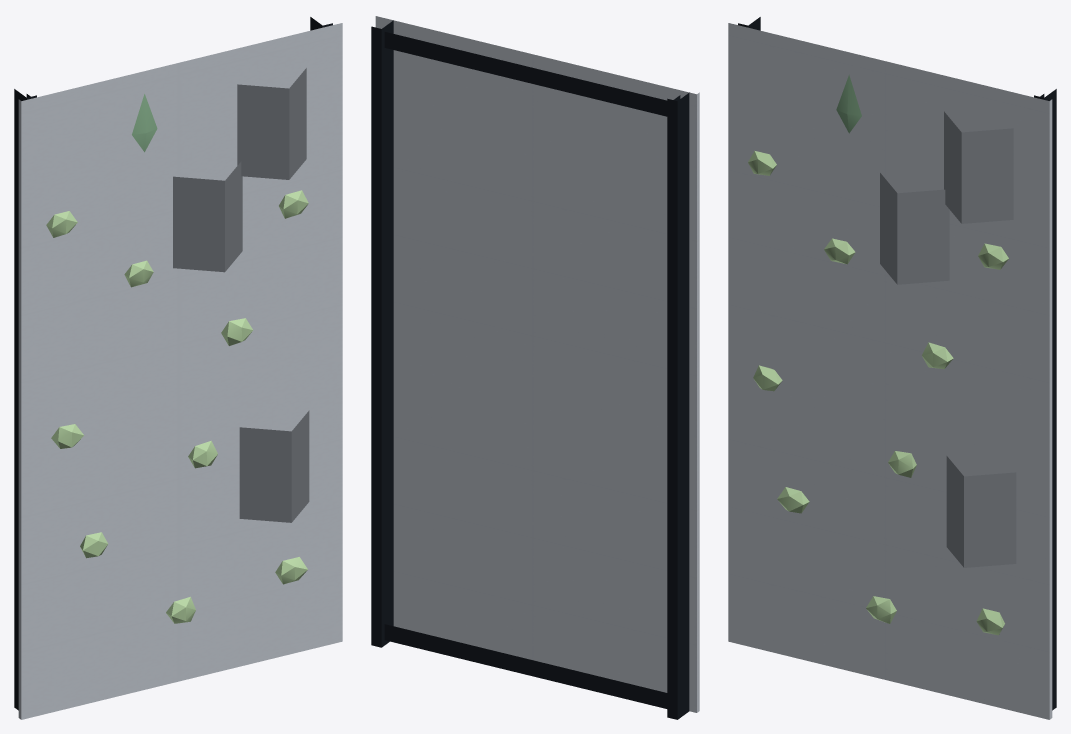
3 renders of one model, left to right at view 1: azimuth 30°, elevation 25°; view 2: azimuth 150°, elevation 25°; view 3: azimuth 330°, elevation 25°, orthographic.
Parts seen in each view (by area): view 1: Face_Sheet, Bark_Volumes, Holds, Sub_Frame, Fern_Crests; view 2: Face_Sheet, Sub_Frame; view 3: Face_Sheet, Bark_Volumes, Holds, Sub_Frame, Fern_Crests.
Part boxes in pixels (x1=…): Face_Sheet: x1=18, y1=23, x2=342, y2=719; Bark_Volumes: x1=173, y1=68, x2=309, y2=522; Holds: x1=46, y1=190, x2=308, y2=623; Sub_Frame: x1=14, y1=17, x2=332, y2=710; Fern_Crests: x1=132, y1=94, x2=157, y2=152; Face_Sheet: x1=375, y1=16, x2=699, y2=712; Sub_Frame: x1=371, y1=20, x2=689, y2=719; Face_Sheet: x1=728, y1=23, x2=1052, y2=719; Bark_Volumes: x1=880, y1=111, x2=1016, y2=567; Holds: x1=748, y1=151, x2=1008, y2=635; Sub_Frame: x1=738, y1=17, x2=1056, y2=710; Fern_Crests: x1=836, y1=74, x2=861, y2=133.
Size of what is drawn, in the model's own units: 1.25 by 2.3 by 0.214.
Materials: 5 (2 with a texture image).
